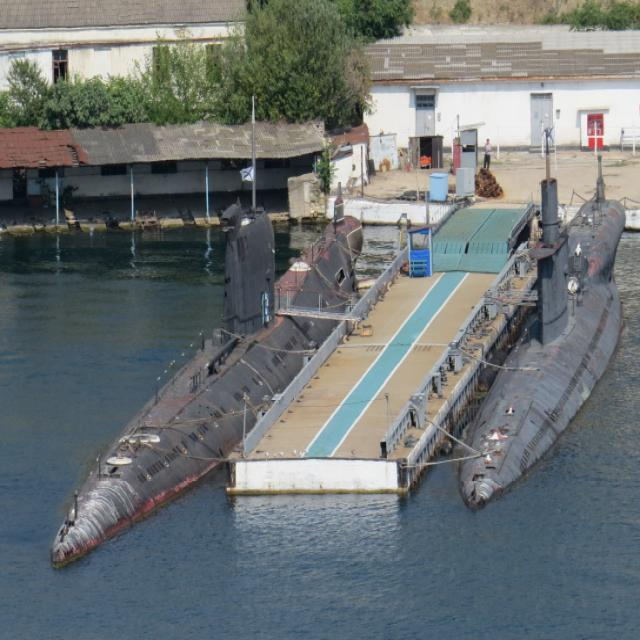submarine: (52, 217, 365, 570), (461, 173, 628, 514)
